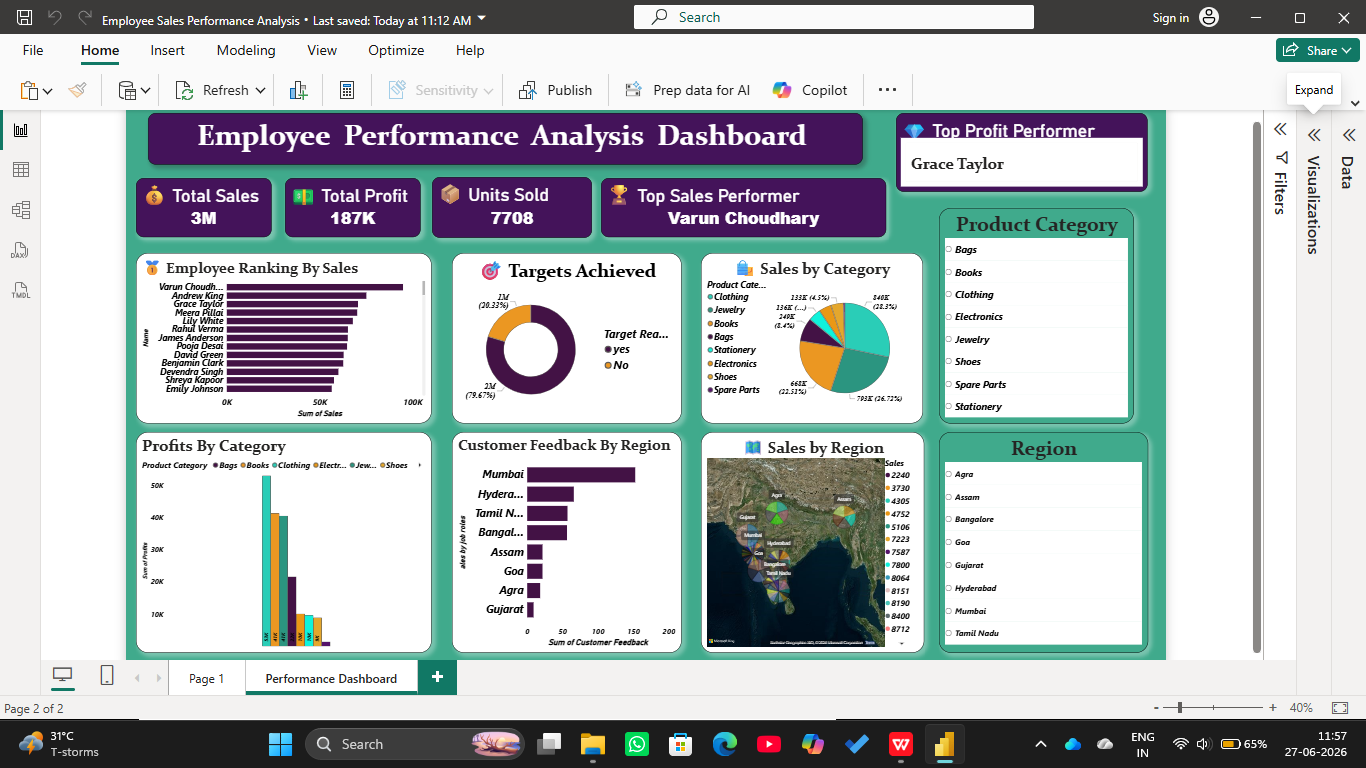

What the dashboard file says about the page in this screenshot:
{"tool":"powerbi","page":{"name":"Performance Dashboard","canvas":[2600,1400],"ordinal":1},"visuals":[{"type":"barChart","title":"Customer Feedback By Region ","fields":{"Category":["table.Region"],"Y":["Sum(table.Customer Feedback)"]},"box":[816.1,812.9,574.2,551.6],"z":0},{"type":"donutChart","title":"🎯 Targets Achieved","fields":{"Category":["Table1.Target Reached "],"Y":["Sum(Table1.Sales  )"]},"box":[816.1,364.5,574.2,425.8],"z":1000},{"type":"card","title":"💰 Total Sales","fields":{"Values":["Sum(Table1.Sales  )"]},"box":[25.8,177.4,338.7,148.4],"z":2000},{"type":"card","title":"💵 Total Profit","fields":{"Values":["Sum(Table1.Profits)"]},"box":[396.8,177.4,338.7,148.4],"z":3000},{"type":"card","title":"📦 Units Sold","fields":{"Values":["Sum(Table1.Units Sold)"]},"box":[764.5,174.2,400,151.6],"z":4000},{"type":"card","title":"🏆 Top Sales Performer","fields":{"Values":["t.top performer (sales)"]},"box":[1187.1,177.4,712.9,148.4],"z":5000},{"type":"clusteredColumnChart","title":"Profits By Category ","fields":{"Y":["Sum(table.Profits)"],"Series":["table.Product Category "]},"box":[25.8,812.9,738.7,551.6],"z":6000},{"type":"textbox","box":[54.8,16.1,1787.1,129],"z":7000},{"type":"cardVisual","title":"💎 Top Profit Performer","fields":{"Data":["t.top performer (profits)"]},"box":[1925.8,16.1,629,196.8],"z":8000},{"type":"barChart","title":"🥇 Employee Ranking By Sales","fields":{"Category":["table.Name"],"Y":["Sum(table.Sales)"]},"box":[25.8,364.5,738.7,425.8],"z":9000},{"type":"pieChart","title":"🛍️ Sales by Category","fields":{"Category":["table.Product Category "],"Y":["Sum(table.Sales)"]},"box":[1438.7,364.5,554.8,425.8],"z":10000},{"type":"map","title":"🗺️ Sales by Region","fields":{"Category":["table.Region"],"Series":["table.Sales"]},"box":[1438.7,812.9,558.1,551.6],"z":11000},{"type":"listSlicer","fields":{"Values":["table.Product Category "]},"box":[2032.3,251.6,487.1,538.7],"z":12000},{"type":"listSlicer","fields":{"Values":["table.Region"]},"box":[2032.3,812.9,522.6,551.6],"z":13000}]}

Visuals, with their boxes on the page's 2600x1400 design canvas (x1, y1, x2, y2). These are canvas units, not pixel positions in the 1366x768 screenshot, which may show the page scaled, cropped or inside an application window:
"Customer Feedback By Region " barChart: left=816, top=813, right=1390, bottom=1364
"🎯 Targets Achieved" donutChart: left=816, top=364, right=1390, bottom=790
"💰 Total Sales" card: left=26, top=177, right=364, bottom=326
"💵 Total Profit" card: left=397, top=177, right=736, bottom=326
"📦 Units Sold" card: left=764, top=174, right=1164, bottom=326
"🏆 Top Sales Performer" card: left=1187, top=177, right=1900, bottom=326
"Profits By Category " clusteredColumnChart: left=26, top=813, right=764, bottom=1364
textbox: left=55, top=16, right=1842, bottom=145
"💎 Top Profit Performer" cardVisual: left=1926, top=16, right=2555, bottom=213
"🥇 Employee Ranking By Sales" barChart: left=26, top=364, right=764, bottom=790
"🛍️ Sales by Category" pieChart: left=1439, top=364, right=1994, bottom=790
"🗺️ Sales by Region" map: left=1439, top=813, right=1997, bottom=1364
listSlicer - table.Product Category : left=2032, top=252, right=2519, bottom=790
listSlicer - table.Region: left=2032, top=813, right=2555, bottom=1364
